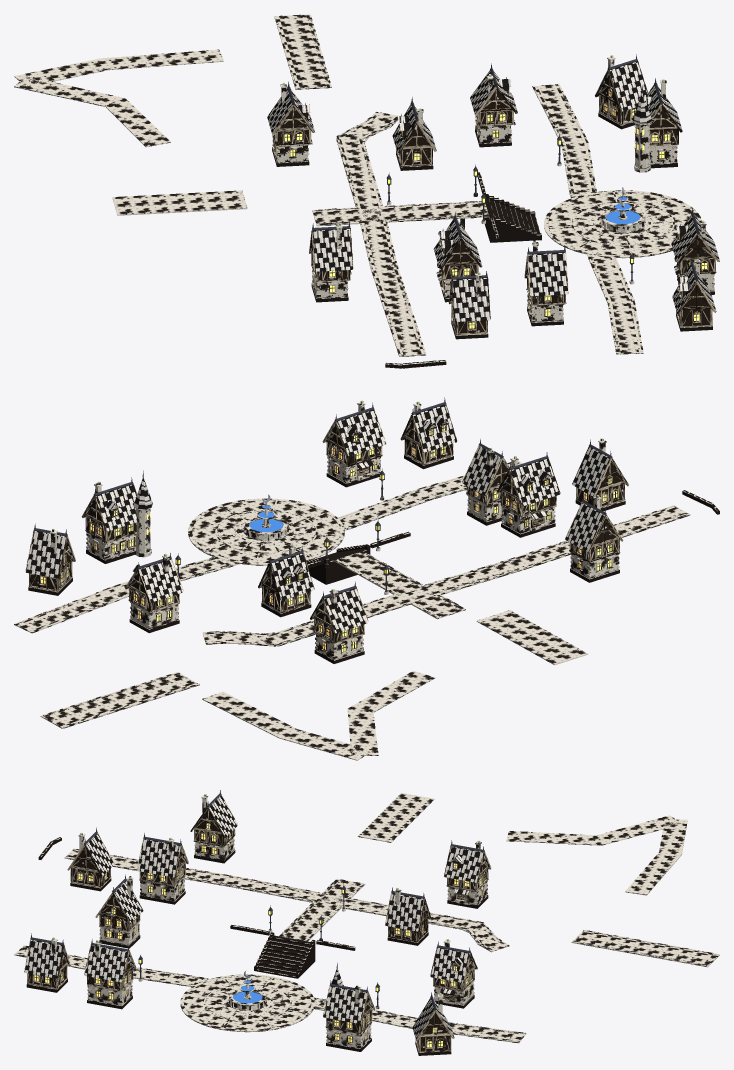
Rendered from ILHA3_05_VILLAGE_545a69.fbx.
3 renders of one model, top to bottom at view 1: azimuth 30°, elevation 25°; view 2: azimuth 150°, elevation 25°; view 3: azimuth 270°, elevation 25°, orthographic. The views are drawn at different scales.
Parts seen in each view (by area): view 1: SG_Vil_Streets_P2__Stone_SGVilCobble, SG_Vil_Streets_P3__Stone_Paving_SG_B, SG_Vil_Plaza__Stone_Paving_SG_B, SG_Vil_Houses_P2W__Roof_SG_Slate, SG_Vil_Streets_P1__Stone_SGVilCobble, SG_Vil_Houses_P1W__Roof_SG_Slate, SG_Vil_Streets_P2__Stone_Paving_SG, SG_Vil_Houses_P1E__Roof_SG_Slate, SG_Vil_Houses_P1E__Wood_SG_Dark, SG_Vil_Houses_P1E__Stone_SG_Block_B, SG_Vil_Streets_P2__Stone_SG_Trim, SG_Vil_Plaza__Stone_SG_Trim (+19 smaller); view 2: SG_Vil_Streets_P2__Stone_SGVilCobble, SG_Vil_Streets_P3__Stone_Paving_SG_B, SG_Vil_Plaza__Stone_Paving_SG_B, SG_Vil_Houses_P1E__Roof_SG_Slate, SG_Vil_Houses_P1W__Roof_SG_Slate, SG_Vil_Houses_P2W__Roof_SG_Slate, SG_Vil_Houses_P2W__Wood_SG_Dark, SG_Vil_Streets_P2__Stone_Paving_SG, SG_Vil_Houses_P1E__Wood_SG_Dark, SG_Vil_Houses_P1W__Wood_SG_Dark, SG_Vil_Streets_P1__Stone_SGVilCobble, SG_Vil_Houses_P1E__Stone_SG_Block_B (+20 smaller); view 3: SG_Vil_Streets_P3__Stone_Paving_SG_B, SG_Vil_Streets_P2__Stone_SGVilCobble, SG_Vil_Plaza__Stone_Paving_SG_B, SG_Vil_Houses_P1E__Roof_SG_Slate, SG_Vil_Houses_P1W__Roof_SG_Slate, SG_Vil_Houses_P2W__Roof_SG_Slate, SG_Vil_Houses_P2W__Wood_SG_Dark, SG_Vil_Streets_P2__Stone_Paving_SG, SG_Vil_Houses_P2E__Roof_SG_Slate, SG_Vil_Houses_P1E__Wood_SG_Dark, SG_Vil_Houses_P1W__Wood_SG_Dark, SG_Vil_Streets_P2__Stone_SG_Trim (+20 smaller).
Part boxes in pixels (<box>): SG_Vil_Streets_P2__Stone_SGVilCobble: <box>279,14,488,356</box>; SG_Vil_Streets_P3__Stone_Paving_SG_B: <box>14,49,247,215</box>; SG_Vil_Plaza__Stone_Paving_SG_B: <box>544,192,695,258</box>; SG_Vil_Houses_P2W__Roof_SG_Slate: <box>310,219,489,321</box>; SG_Vil_Streets_P1__Stone_SGVilCobble: <box>537,84,638,353</box>; SG_Vil_Houses_P1W__Roof_SG_Slate: <box>525,215,719,314</box>; SG_Vil_Streets_P2__Stone_Paving_SG: <box>274,14,489,356</box>; SG_Vil_Houses_P1E__Roof_SG_Slate: <box>470,62,682,132</box>; SG_Vil_Houses_P1E__Wood_SG_Dark: <box>471,61,682,159</box>; SG_Vil_Houses_P1E__Stone_SG_Block_B: <box>475,59,677,172</box>; SG_Vil_Streets_P2__Stone_SG_Trim: <box>274,15,482,356</box>; SG_Vil_Plaza__Stone_SG_Trim: <box>544,190,701,257</box>; SG_Vil_Streets_P2__Stone_SGVilCobble: <box>43,507,687,726</box>; SG_Vil_Streets_P3__Stone_Paving_SG_B: <box>202,610,588,760</box>; SG_Vil_Plaza__Stone_Paving_SG_B: <box>188,500,344,565</box>; SG_Vil_Houses_P1E__Roof_SG_Slate: <box>26,477,183,602</box>; SG_Vil_Houses_P1W__Roof_SG_Slate: <box>324,405,508,495</box>; SG_Vil_Houses_P2W__Roof_SG_Slate: <box>499,447,628,552</box>; SG_Vil_Houses_P2W__Wood_SG_Dark: <box>497,446,628,571</box>; SG_Vil_Streets_P2__Stone_Paving_SG: <box>40,506,690,728</box>; SG_Vil_Houses_P1E__Wood_SG_Dark: <box>25,484,183,622</box>; SG_Vil_Houses_P1W__Wood_SG_Dark: <box>322,404,509,514</box>; SG_Vil_Streets_P1__Stone_SGVilCobble: <box>17,462,522,631</box>; SG_Vil_Houses_P1E__Stone_SG_Block_B: <box>28,486,179,633</box>; SG_Vil_Streets_P3__Stone_Paving_SG_B: <box>357,793,687,895</box>; SG_Vil_Streets_P2__Stone_SGVilCobble: <box>66,850,718,964</box>; SG_Vil_Plaza__Stone_Paving_SG_B: <box>180,976,313,1032</box>; SG_Vil_Houses_P1E__Roof_SG_Slate: <box>323,948,475,1040</box>; SG_Vil_Houses_P1W__Roof_SG_Slate: <box>24,881,143,982</box>; SG_Vil_Houses_P2W__Roof_SG_Slate: <box>86,796,237,877</box>; SG_Vil_Houses_P2W__Wood_SG_Dark: <box>67,795,237,895</box>; SG_Vil_Streets_P2__Stone_Paving_SG: <box>65,849,719,967</box>; SG_Vil_Houses_P2E__Roof_SG_Slate: <box>385,846,489,931</box>; SG_Vil_Houses_P1E__Wood_SG_Dark: <box>323,947,477,1052</box>; SG_Vil_Houses_P1W__Wood_SG_Dark: <box>24,880,142,1000</box>; SG_Vil_Streets_P2__Stone_SG_Trim: <box>64,848,717,966</box>.
Bounding box in the file's own units: 206 × 34.4 × 272.
Materials: 10 (5 with a texture image).
